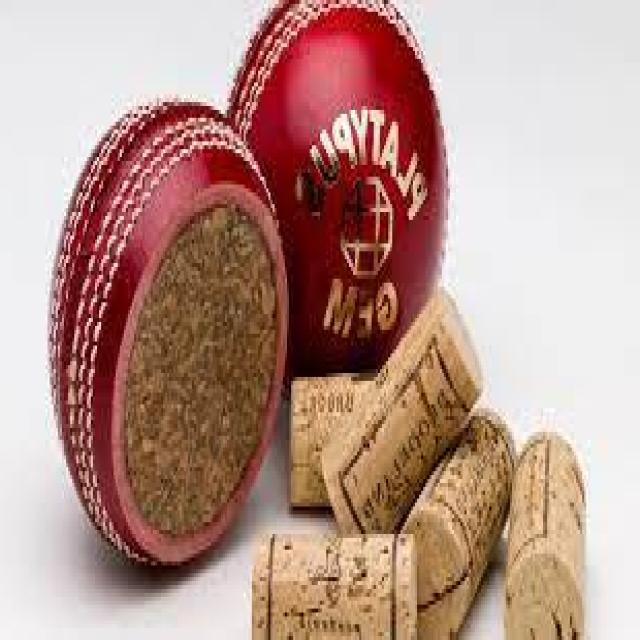ball: (47, 106, 283, 573), (229, 4, 450, 400)
